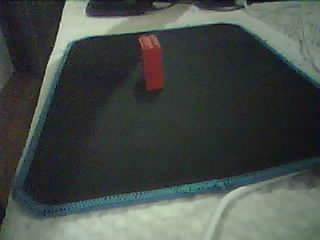lego: (136, 33, 163, 90)
